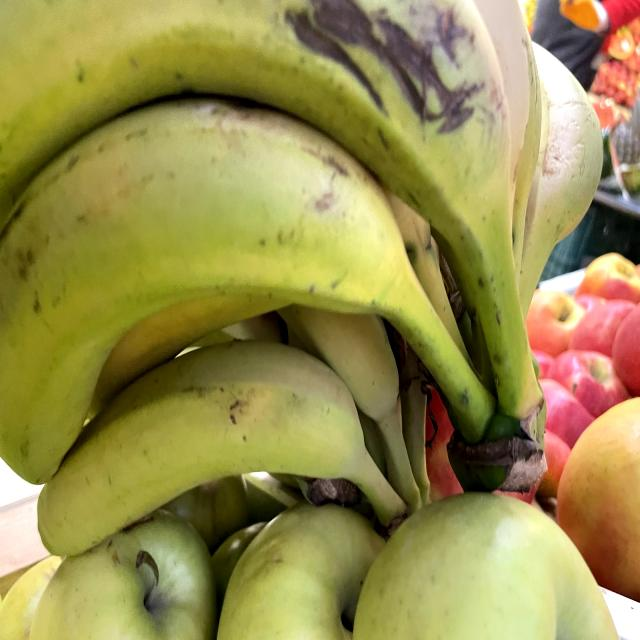banana: (32, 332, 433, 572)
